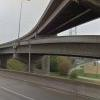Bridge: (3, 5, 98, 64)
